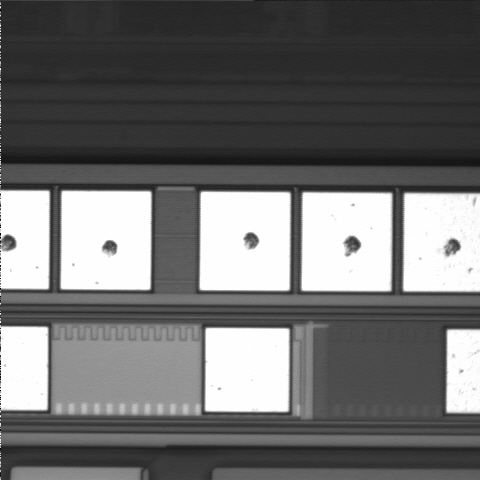pad: (61, 191, 151, 290), (200, 192, 290, 290), (302, 193, 392, 291), (205, 328, 289, 412)
